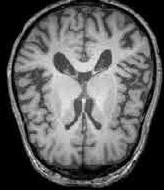Normal_Brain: (6, 1, 164, 190)
